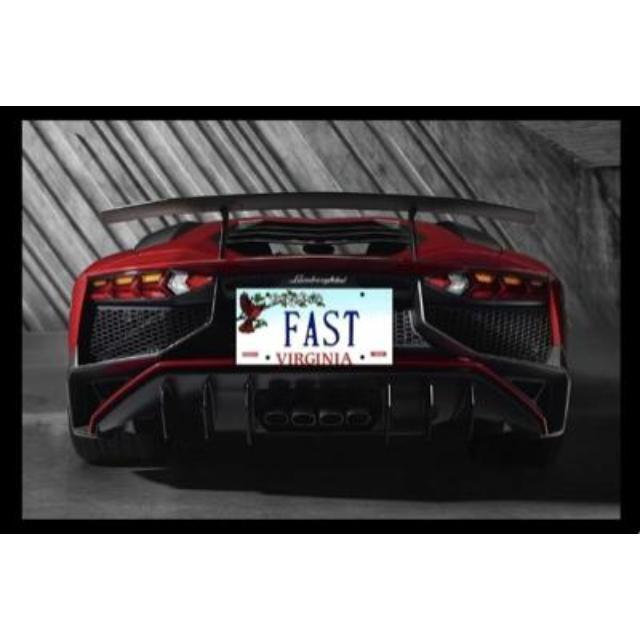car: (69, 208, 574, 482)
plate: (234, 289, 394, 367)
